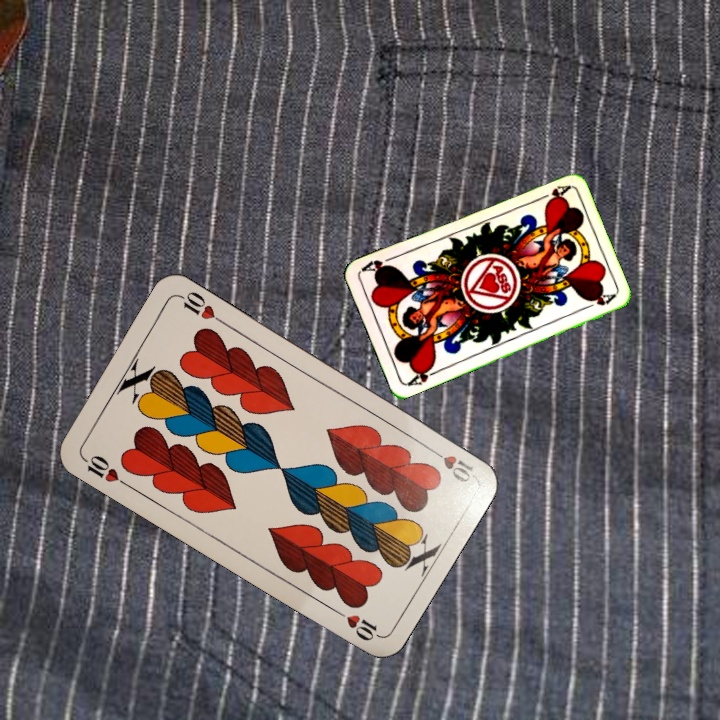H10: (424, 443, 478, 486), (78, 451, 132, 490)
HA: (404, 361, 442, 389), (532, 181, 572, 206)
